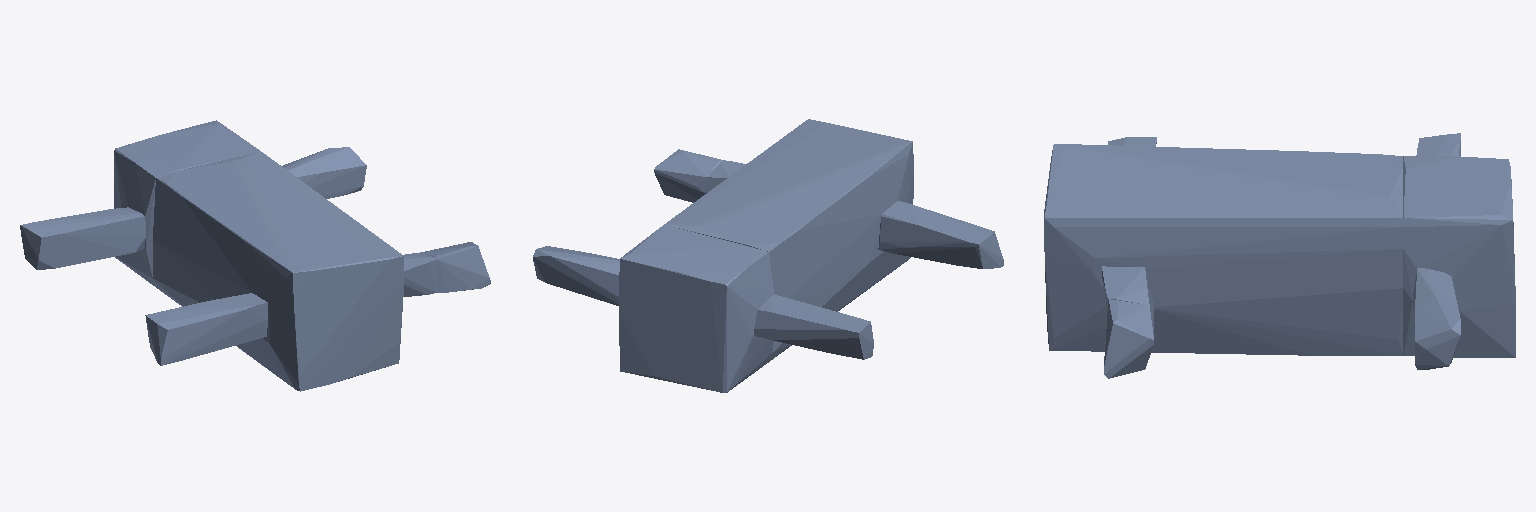
URDF robot description (blob935):
<robot name="blob935">
  <link name="random_obj_935">
    <contact>
      <lateral_friction value="1.0"/>
      <rolling_friction value="0.0"/>
      <inertia_scaling value="3.0"/>
      <contact_cfm value="0.0"/>
      <contact_erp value="1.0"/>
    </contact>
    <inertial>
      <origin rpy="0 0 0" xyz="0 0 0"/>
      <mass value="0.1"/>
      <inertia ixx="1" ixy="0" ixz="0" iyy="1" iyz="0" izz="0"/>
    </inertial>
    <visual>
      <origin rpy="0 0 0" xyz="0 0 0"/>
      <geometry>
        <mesh filename="935.obj" scale="0.015 0.015 0.015"/>
      </geometry>
      <material name="blockmat">
        <color rgba="0.54 0.60 0.71 1"/>
      </material>
    </visual>
    <collision>
      <origin rpy="0 0 0" xyz="0 0 0"/>
      <geometry>
        <mesh filename="935.obj" scale="0.015 0.015 0.015"/>
      </geometry>
    </collision>
  </link>
</robot>

--- What the picture shows (computed from the rendered views, not written in the file) ---
Views: 3 orthographic renders of the robot side by side, from view 1: azimuth 30°, elevation 25°; view 2: azimuth 150°, elevation 25°; view 3: azimuth 270°, elevation 25°.
Model blob935 with 1 links and 0 joints (none), rooted at random_obj_935, posed all joints at 0.
Visible links, largest first — view 1: random_obj_935; view 2: random_obj_935; view 3: random_obj_935.
Boxes of the visible links, x1,y1,x2,y2 form: random_obj_935: [20, 120, 490, 391]; random_obj_935: [533, 119, 1003, 392]; random_obj_935: [1044, 133, 1515, 378].
Bounding box of the posed robot: 0.093 × 0.0921 × 0.0322 m (x, y, z).
Meshes: 1 distinct files referenced, 1 mesh visuals loaded (1 OBJ).